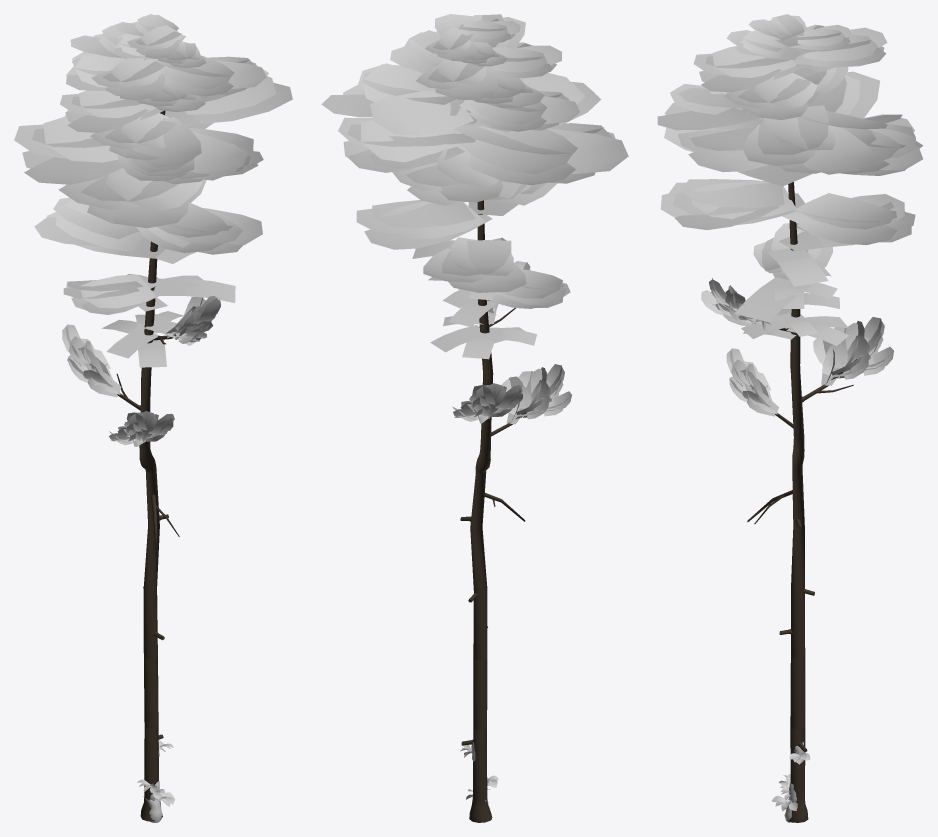
The model's file is Pine_L.A.X1.fbx.
3 renders of one model, left to right at view 1: azimuth 30°, elevation 25°; view 2: azimuth 150°, elevation 25°; view 3: azimuth 270°, elevation 25°, orthographic.
Visible parts, largest first — view 1: polySurface4610; view 2: polySurface4610; view 3: polySurface4610.
Part boxes in pixels (<box>): polySurface4610: <box>14,14,292,822</box>; polySurface4610: <box>321,14,628,822</box>; polySurface4610: <box>657,14,923,822</box>.
Size of the model in its own units: 746 by 2133 by 644.
